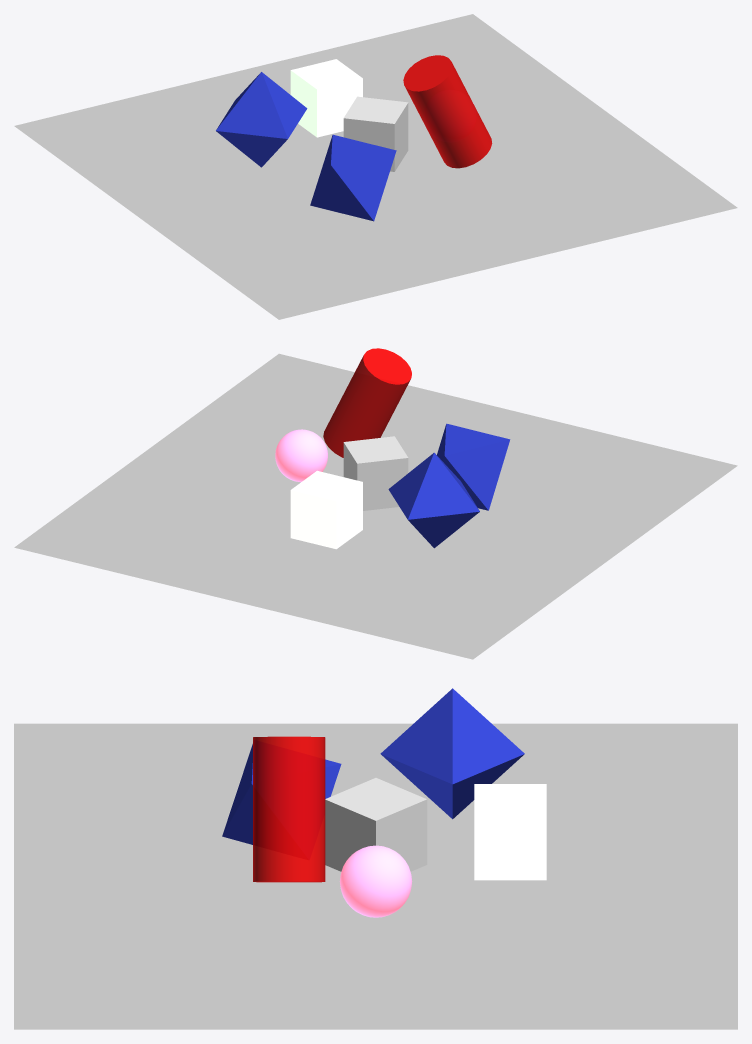
File: TestScene.gltf
3 views of the same model, one above another, from view 1: azimuth 30°, elevation 25°; view 2: azimuth 150°, elevation 25°; view 3: azimuth 270°, elevation 25° (orthographic). The views are drawn at different scales.
Parts seen in each view (by area): view 1: Plane, Cube (×2), Cylinder, D8, D8 (1); view 2: Plane, Cube (×2), Cylinder, D8 (1), D8, Sphere; view 3: Plane, Cube (×2), Cylinder, D8 (1), Sphere, D8.
Part boxes in pixels (x1,y1,x2,y2): Plane: (14, 14, 737, 319); Cube (×2): (290, 59, 408, 171); Cylinder: (403, 55, 492, 168); D8: (310, 134, 396, 221); D8 (1): (216, 72, 307, 167); Plane: (14, 353, 737, 659); Cube (×2): (290, 436, 408, 549); Cylinder: (323, 348, 411, 457); D8 (1): (388, 452, 479, 548); D8: (437, 423, 510, 510); Sphere: (275, 429, 327, 482); Plane: (14, 723, 737, 1029); Cube (×2): (325, 778, 546, 880); Cylinder: (253, 736, 325, 882); D8 (1): (380, 688, 524, 819); Sphere: (339, 845, 412, 917); D8: (222, 744, 341, 844).
Bounding box in the file's own units: 10 × 2.55 × 10.
